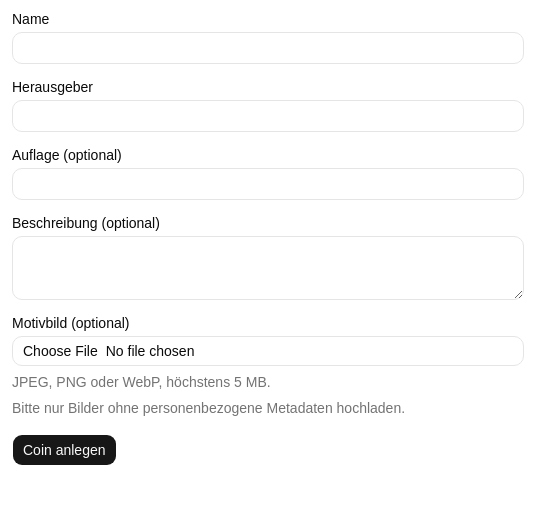
it: AK-27: 403 beim Anlegen › meldet keinen Erfolg
Type "Coin Alpha" into the field labelled "Name" at (268, 48), box left=12, top=32, right=524, bottom=64
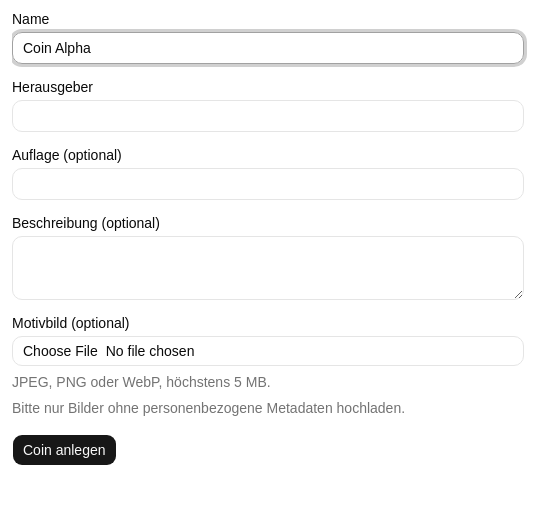
Type "Herausgeber Beta" into the field labelled "Herausgeber" at (268, 116), box left=12, top=100, right=524, bottom=132
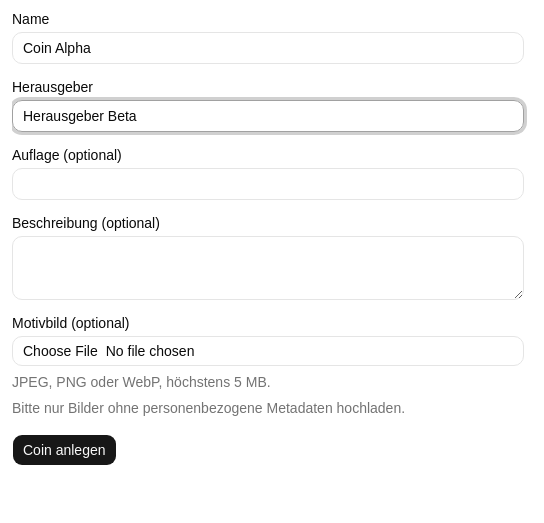
Click the button "Coin anlegen" at (64, 450), box left=12, top=434, right=116, bottom=466
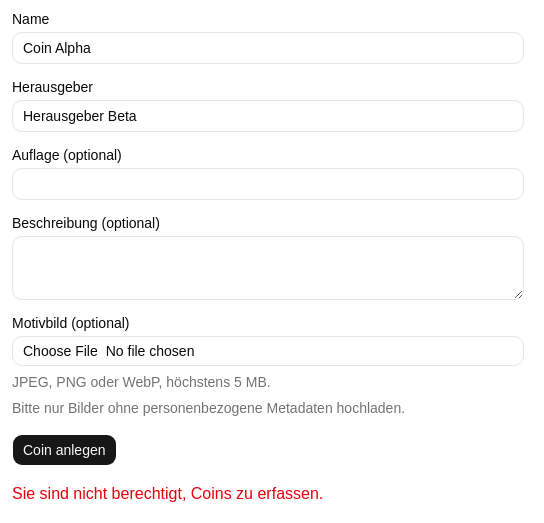
Expected: the text "Sie sind nicht berechtigt, Coins zu erfassen." is shown, left=12, top=482, right=323, bottom=506
